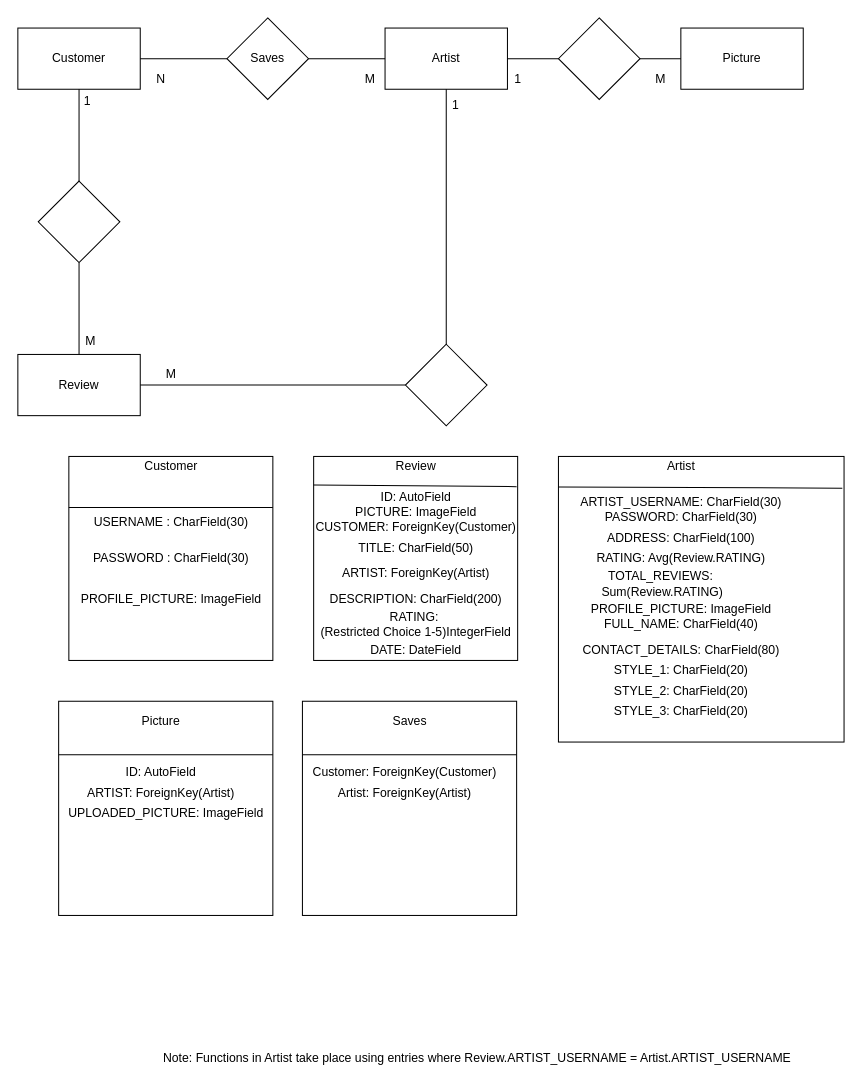
Image size: 862x1086. Some labels were removed from this diagram. The shapes that lost their labels are listed below. From the top down, each one's centre as x and y in pixels, then its label:
the point at 598,58: Uploads
the point at 78,221: Creates
the point at 445,384: Has
